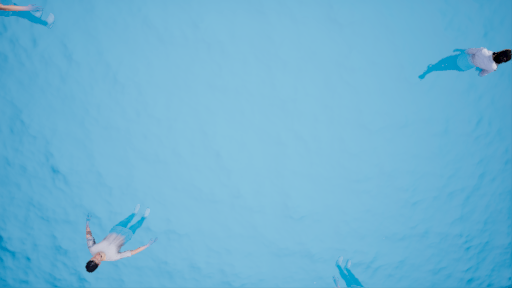person: (76, 207, 164, 268), (419, 40, 511, 92)
